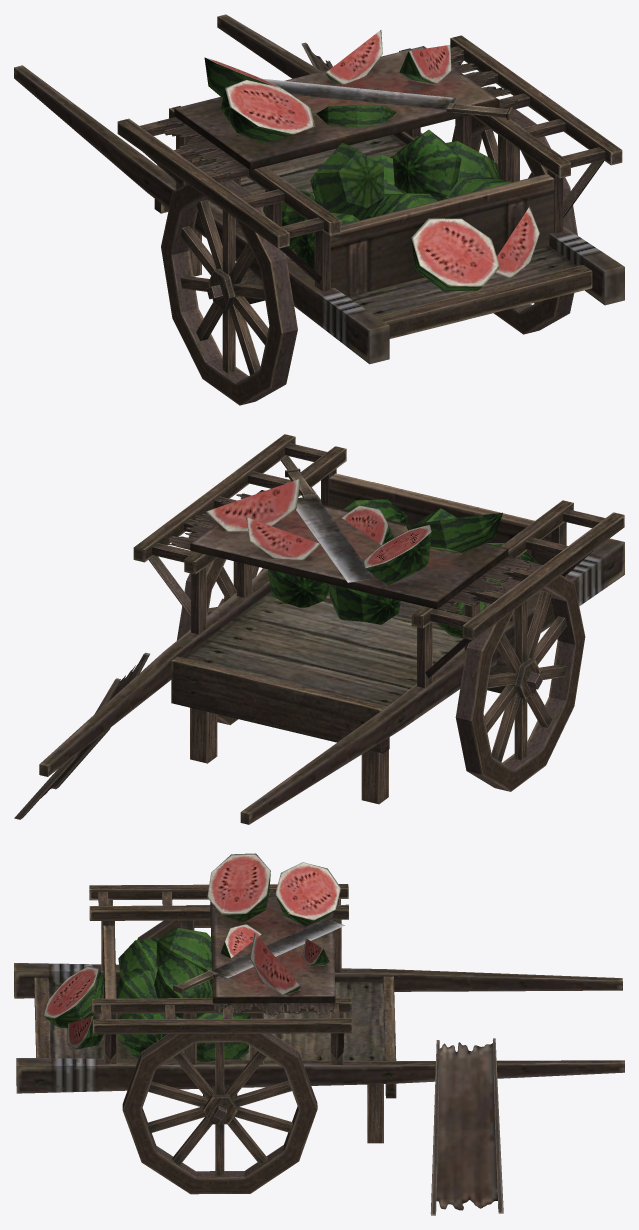
The picture shows the model from 3 angles, top to bottom: view 1: azimuth 30°, elevation 25°; view 2: azimuth 150°, elevation 25°; view 3: azimuth 270°, elevation 25°; orthographic projection. The views are drawn at different scales.
Visible parts, largest first — view 1: qingmo_obj_294 [10484669]; view 2: qingmo_obj_294 [10484669]; view 3: qingmo_obj_294 [10484669].
Boxes of the visible parts, x1,y1,x2,y2 form: qingmo_obj_294 [10484669]: (14, 14, 624, 405); qingmo_obj_294 [10484669]: (14, 434, 624, 824); qingmo_obj_294 [10484669]: (14, 853, 624, 1215).
Bounding box in the file's own units: 15.19 × 25.48 × 10.61.
2 materials, 2 textured.
